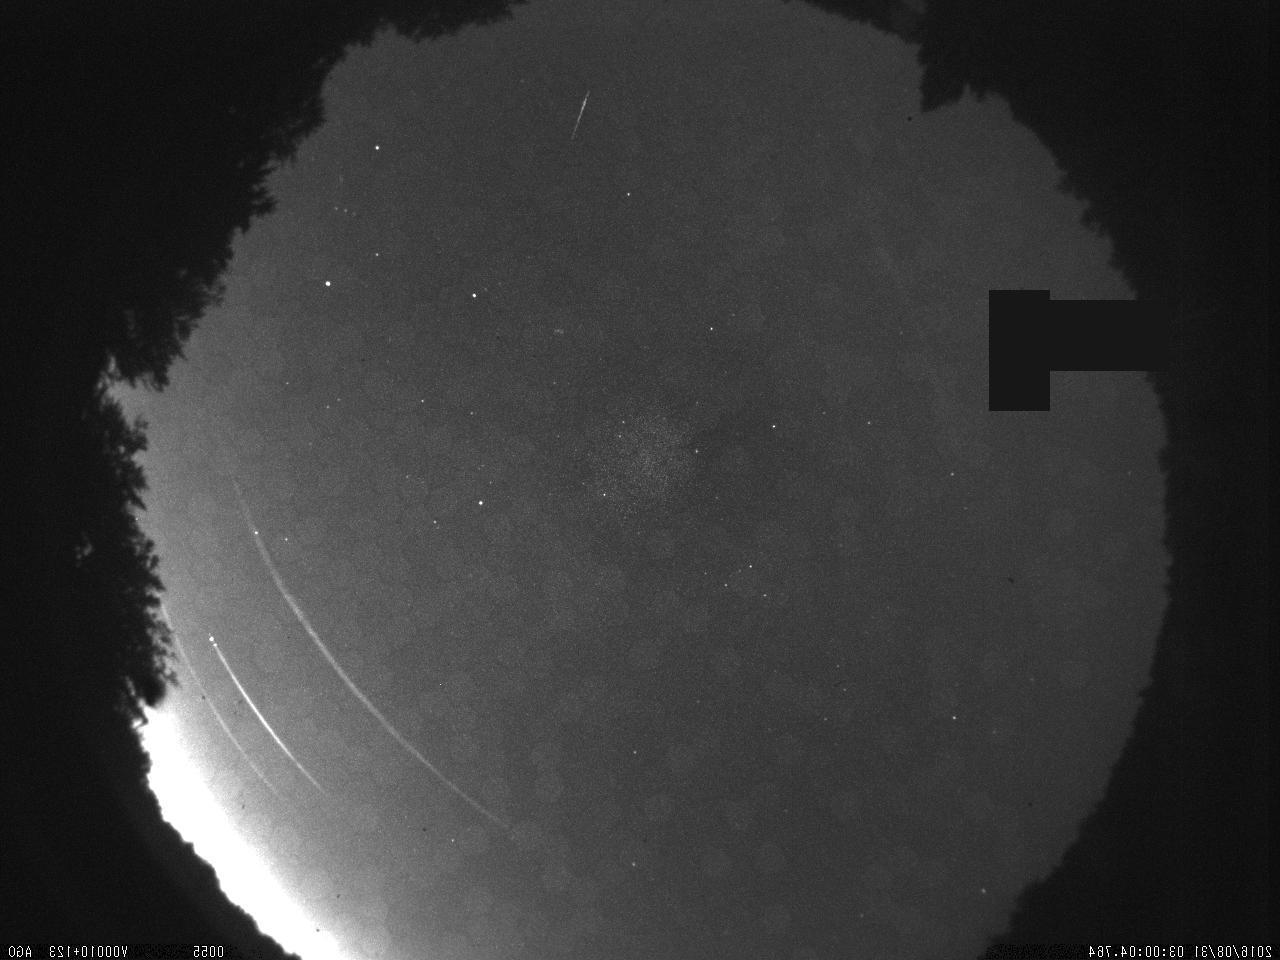meteor: (555, 76, 604, 147)
